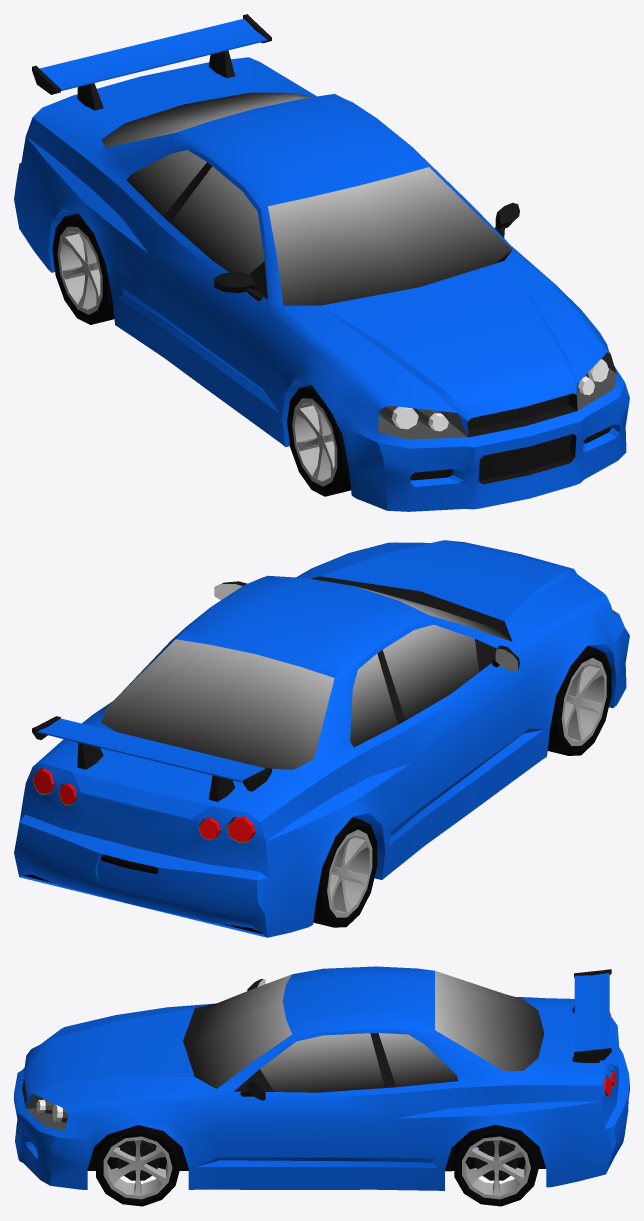
File: sport car 7.fbx
The picture shows the model from 3 angles, top to bottom: view 1: azimuth 30°, elevation 25°; view 2: azimuth 150°, elevation 25°; view 3: azimuth 270°, elevation 25°; orthographic projection. The views are drawn at different scales.
Parts seen in each view (by area): view 1: Plane, Plane.001, Cylinder.002, Cylinder.003; view 2: Plane, Plane.001, Cylinder.003, Cylinder.002; view 3: Plane, Cylinder.001, Cylinder, Plane.001.
Part boxes in pixels (x1,y1,x2,y2): Plane: (14,57,629,511); Plane.001: (32,14,271,110); Cylinder.002: (287,385,350,496); Cylinder.003: (52,213,114,324); Plane: (14,540,629,937); Plane.001: (32,716,271,801); Cylinder.003: (313,817,377,927); Cylinder.002: (547,646,611,755); Plane: (14,966,629,1190); Cylinder.001: (454,1124,538,1206); Cylinder: (96,1125,180,1206); Plane.001: (572,969,611,1062).
Bounding box in the file's own units: 99.53 × 67.34 × 229.
1 material, 1 textured.
